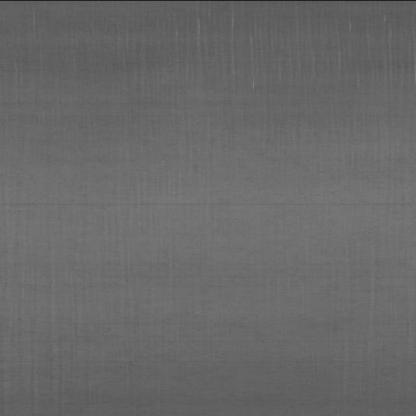waist_folding: (79, 22, 382, 100)
